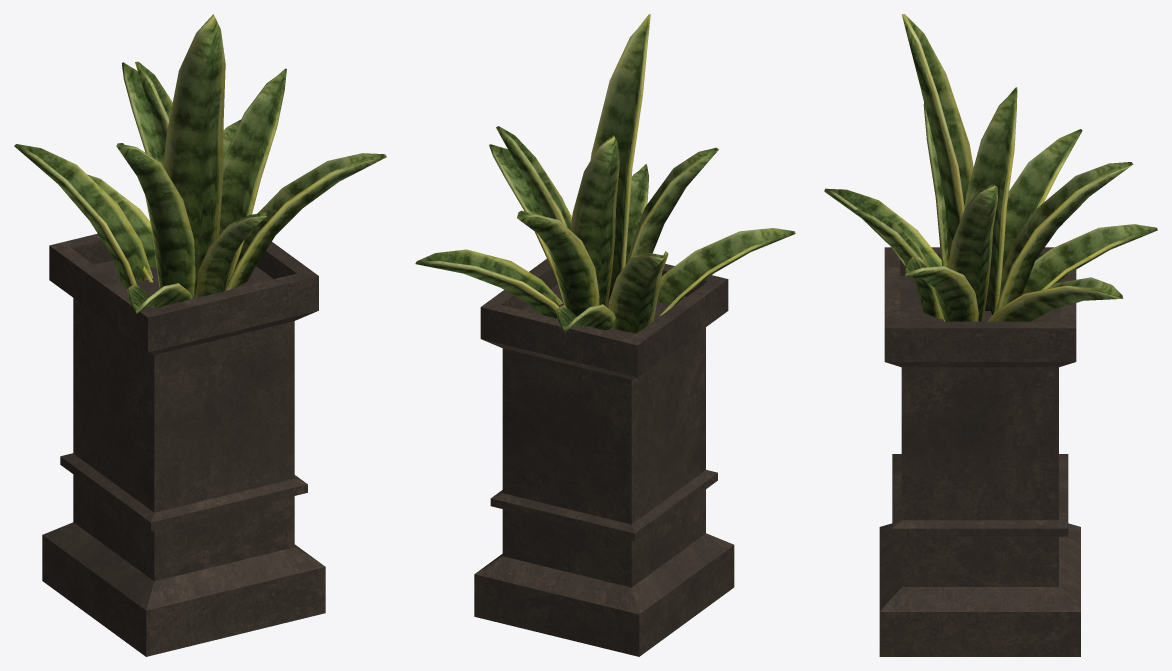
The model's file is INS PLANT MED 1.fbx.
The picture shows the model from 3 angles, left to right: view 1: azimuth 30°, elevation 25°; view 2: azimuth 150°, elevation 25°; view 3: azimuth 270°, elevation 25°; orthographic projection. The views are drawn at different scales.
Parts seen in each view (by area): view 1: INS PLANT MED 1; view 2: INS PLANT MED 1; view 3: INS PLANT MED 1.
Part boxes in pixels (x1=…): INS PLANT MED 1: x1=14, y1=14, x2=386, y2=656; INS PLANT MED 1: x1=415, y1=14, x2=795, y2=656; INS PLANT MED 1: x1=824, y1=14, x2=1157, y2=656.
Size of the model in its own units: 90.22 by 181 by 91.97.
